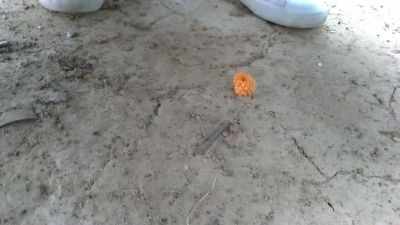eggs: (229, 69, 257, 98)
